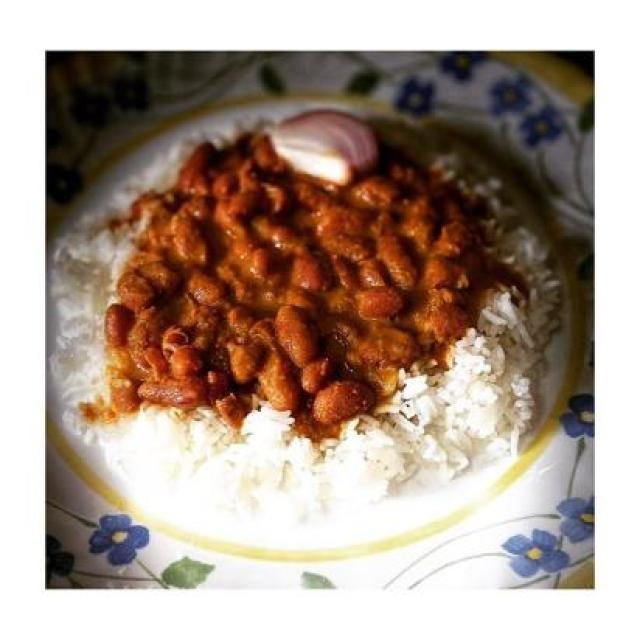rajma: (131, 172, 472, 420)
